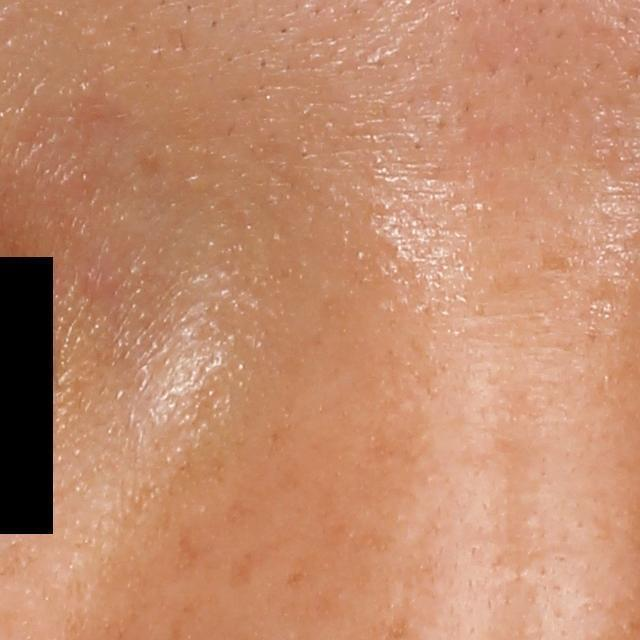melasma: (305, 482, 397, 559), (227, 550, 267, 589), (177, 523, 204, 562), (282, 568, 309, 588)
